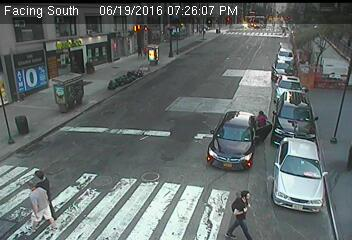neg: (67, 80, 96, 119), (289, 45, 309, 71), (334, 68, 351, 93), (320, 62, 335, 83), (108, 75, 123, 95)
pos: (253, 106, 273, 132), (133, 44, 146, 62)
